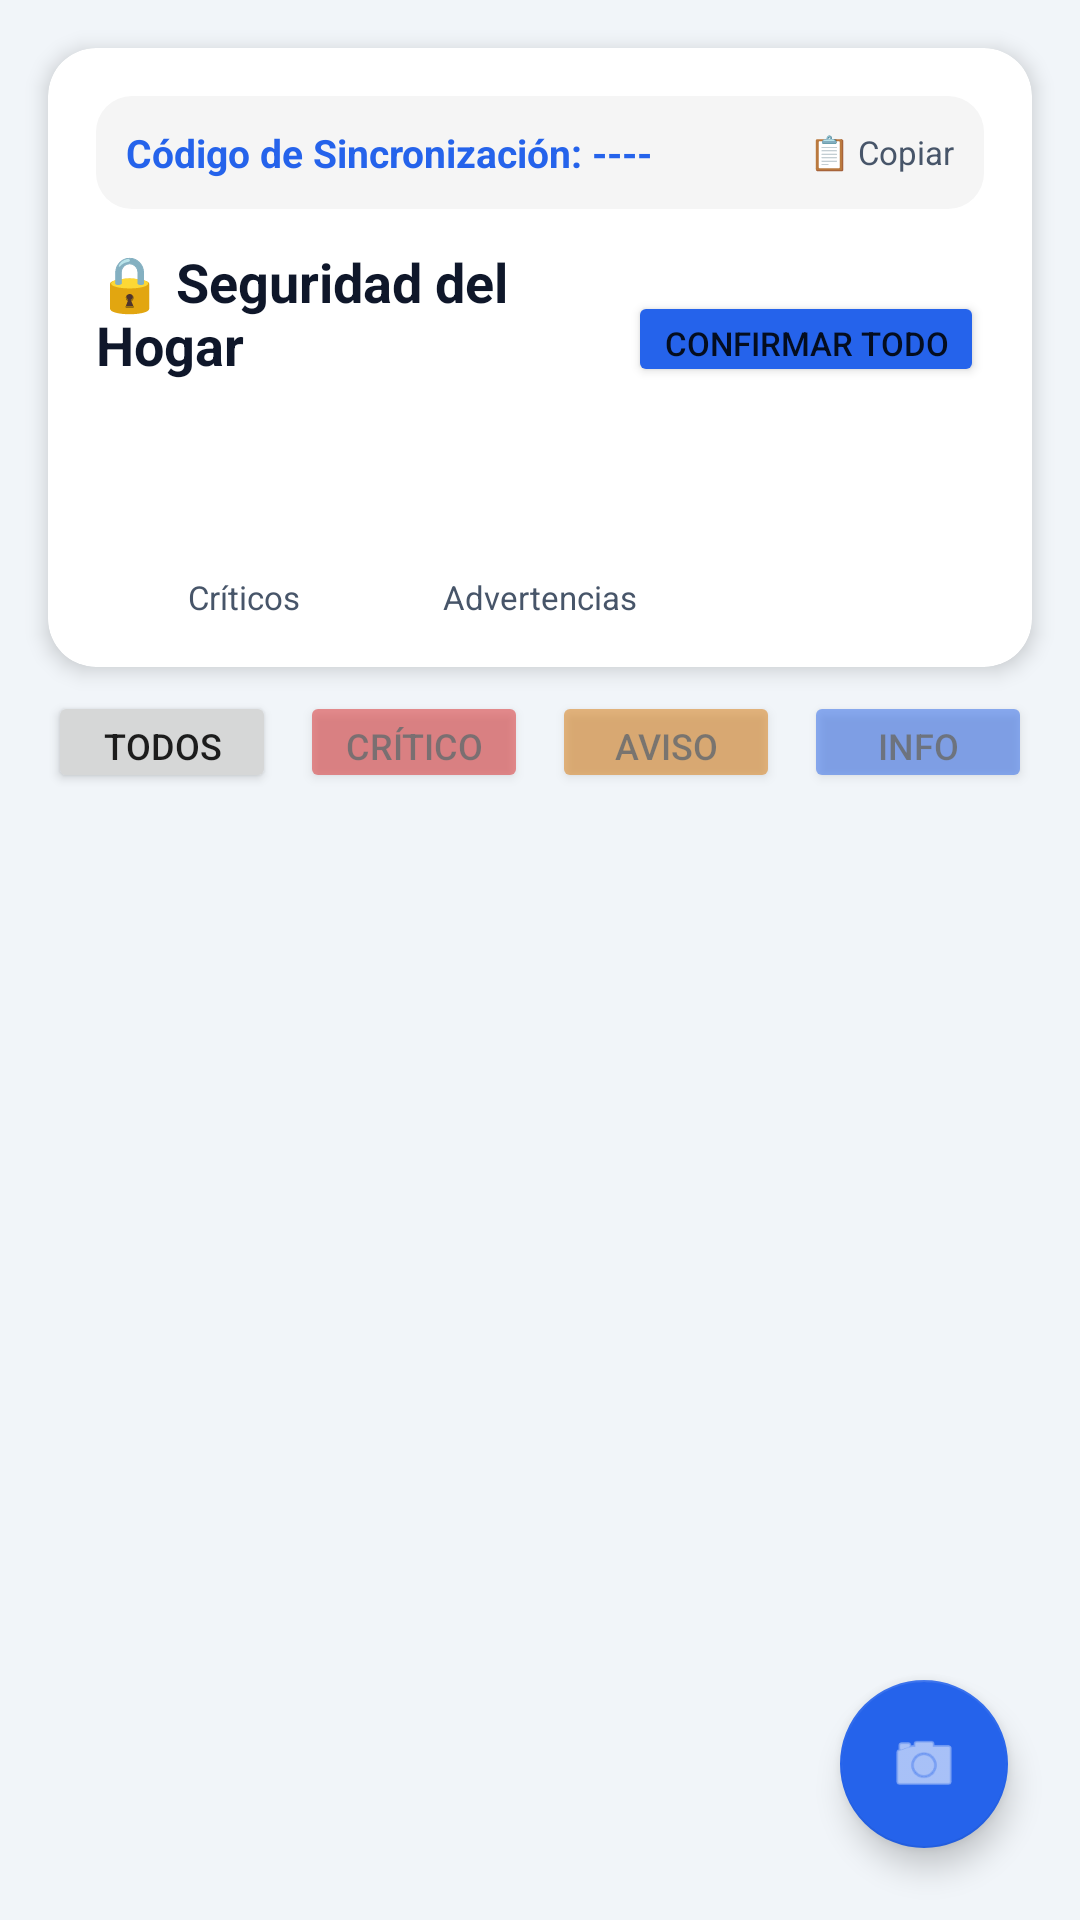

Where to tap for icons on this 1080 × 1920 app screen, as point (x, y):
Escanear QR: point (924, 1764)
